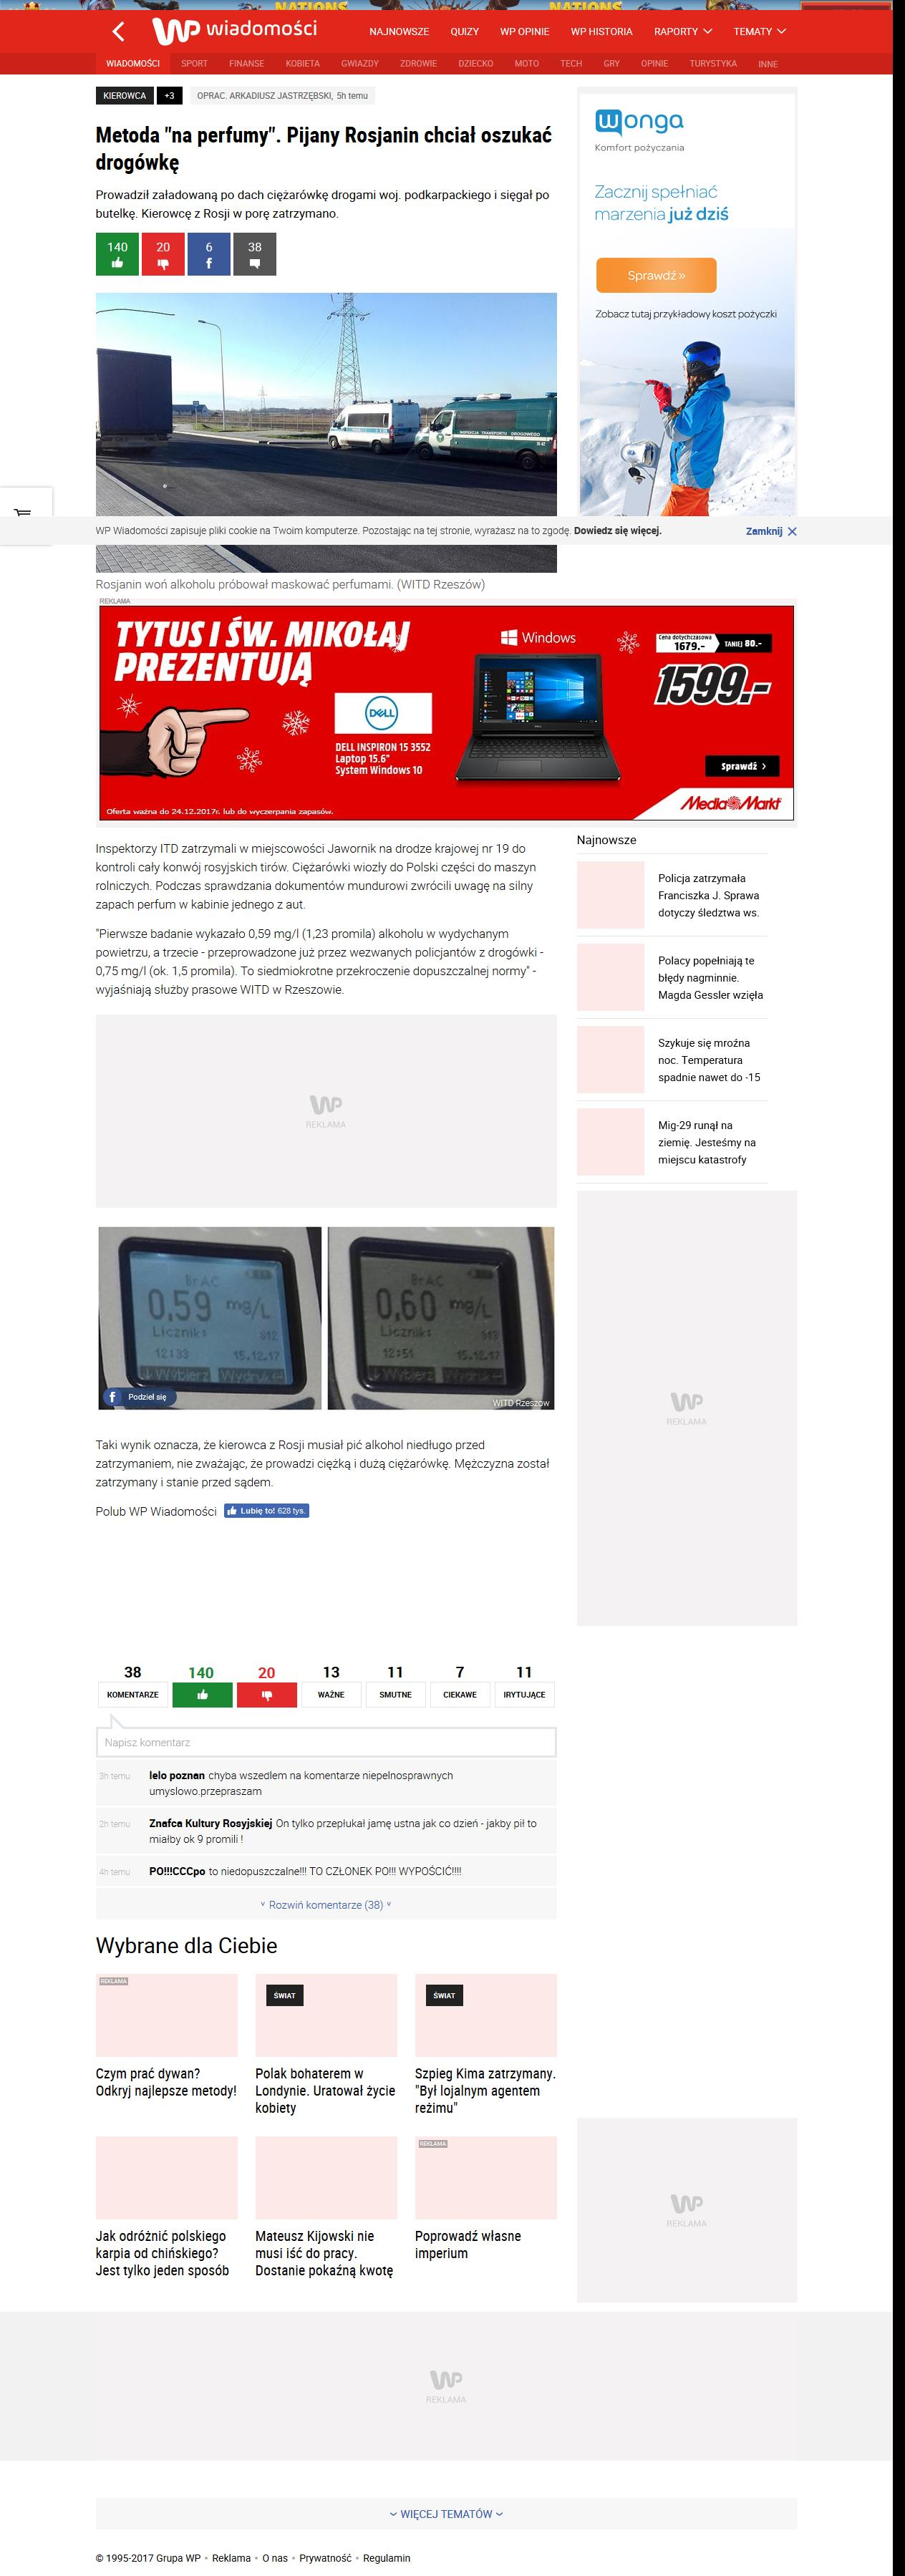title: (95, 125, 554, 176)
